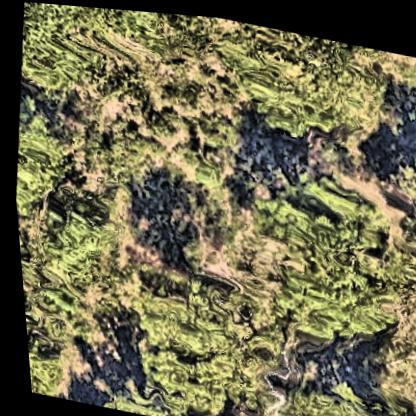tree-top: (113, 264, 282, 416), (236, 144, 393, 262), (18, 170, 138, 298), (262, 241, 391, 352), (275, 363, 416, 416), (376, 128, 416, 250)
